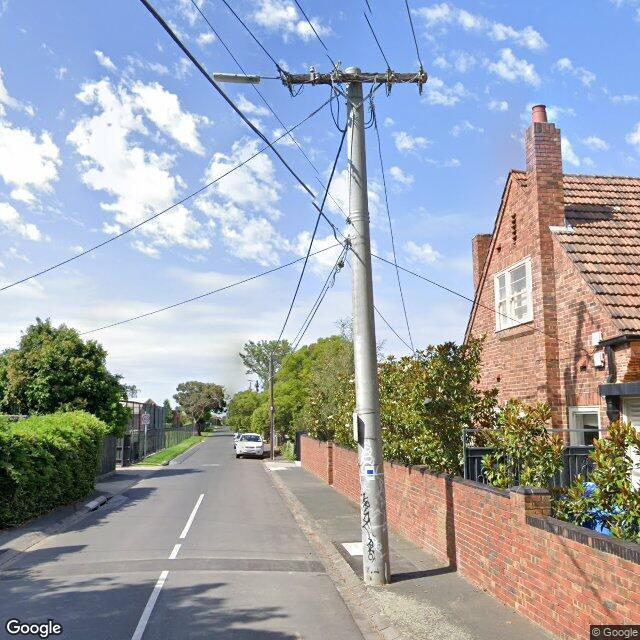concrete-pole: (344, 67, 391, 586)
crossarm: (281, 73, 427, 86)
streetlight: (213, 72, 280, 84)
timber-pole: (270, 356, 274, 462)
